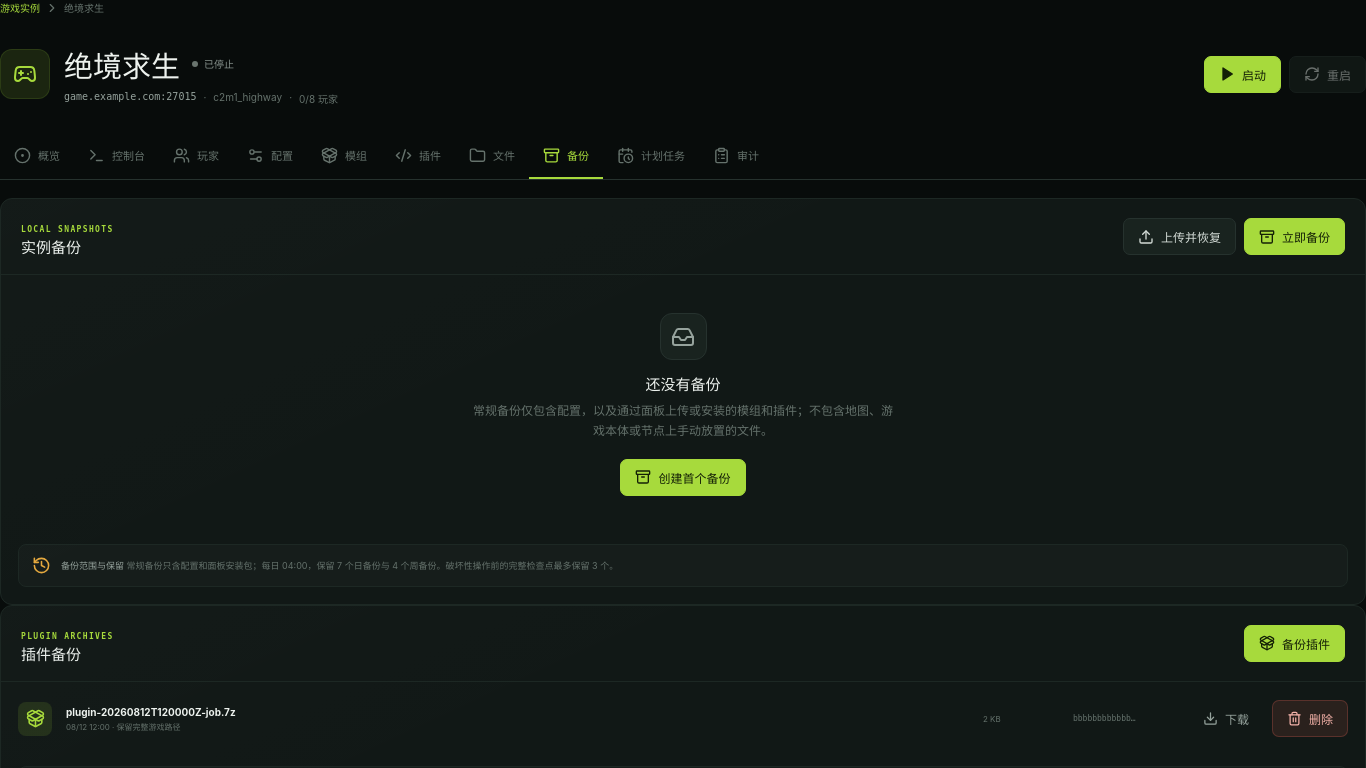
Test case: 游戏实例配置中的端口 › 创建插件备份时可选择精简路径布局
Check: the heading "插件备份" is shown, box [21,645,81,664]
Check: the text "plugin-20260812T120000Z-job.7z" shows "保留完整游戏路径", box [117,722,181,732]
Step 1. Click the button "备份插件" → (1294, 643), box [1244,625,1345,662]
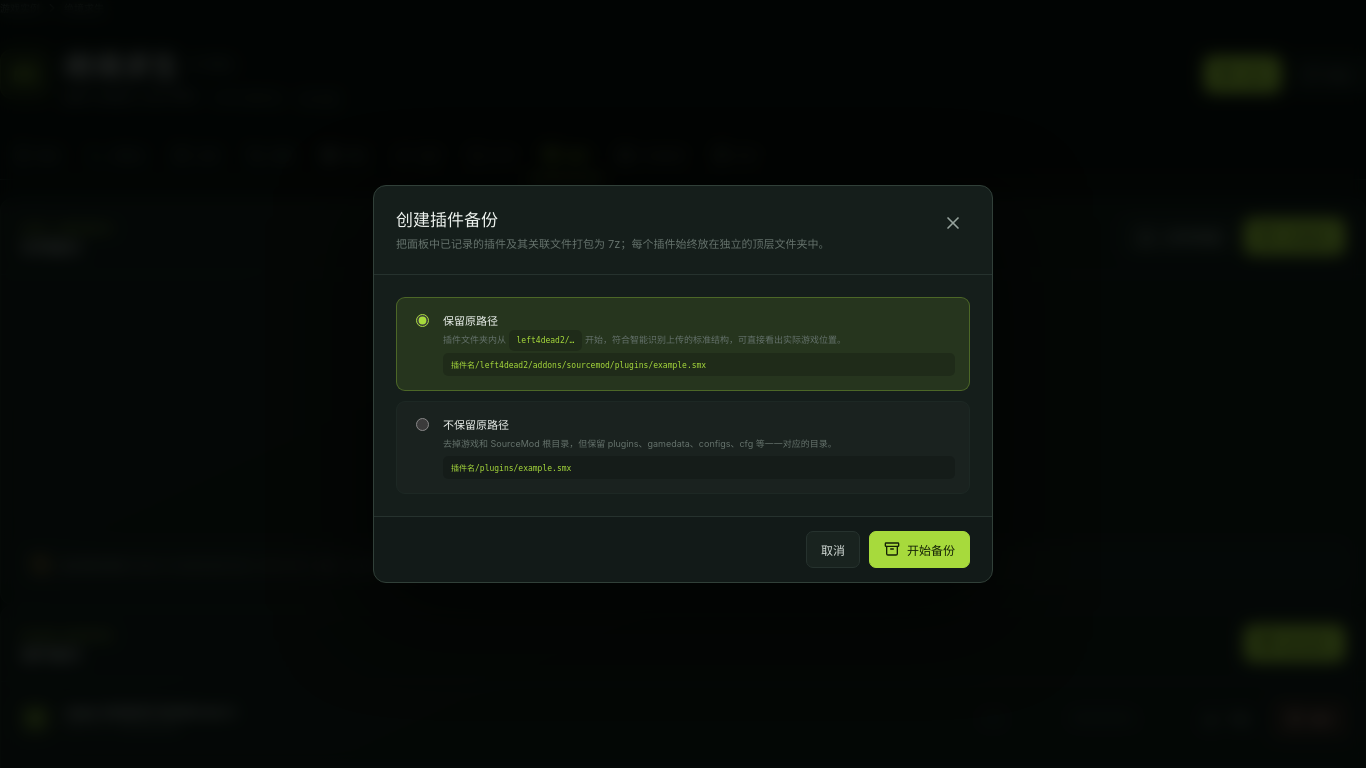
Step 2. Click the radio button labelled "不保留原路径" → (422, 424), box [416,418,429,430]
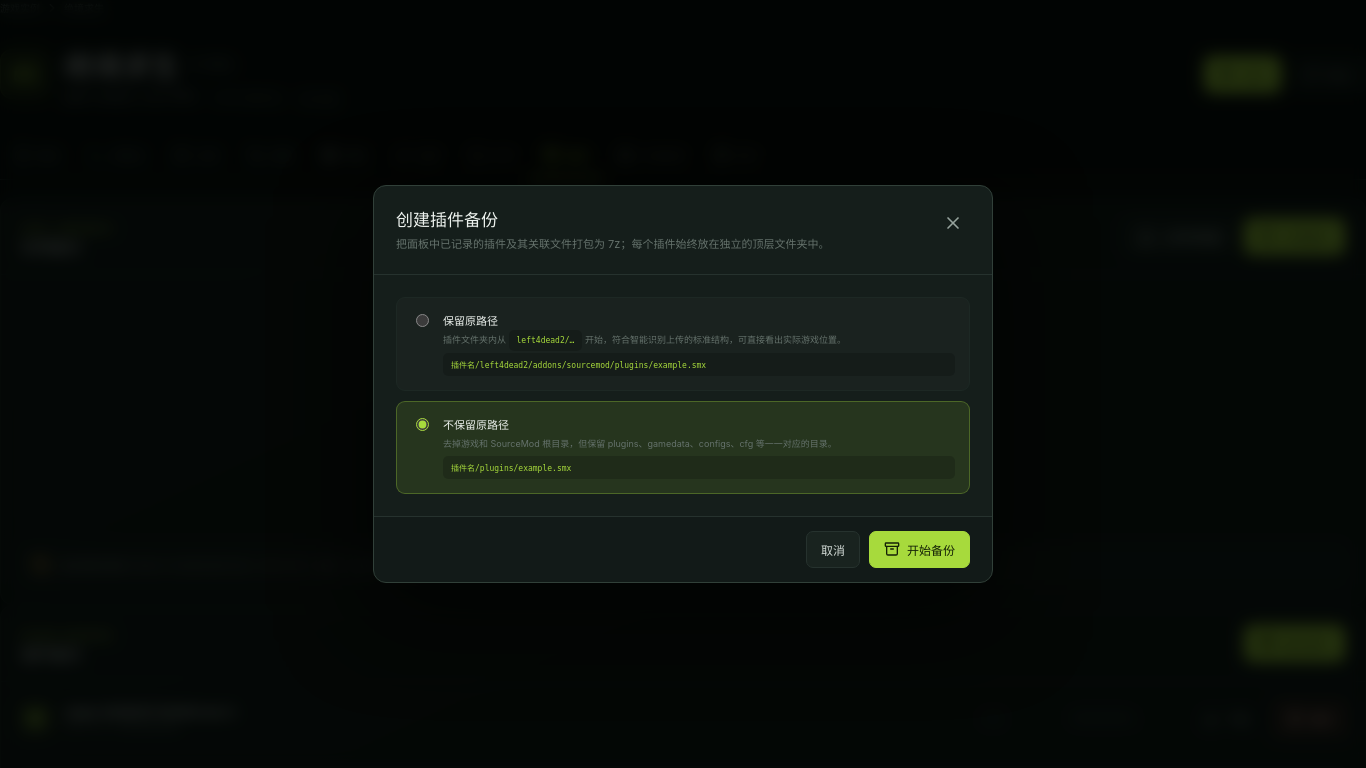
Step 3. Click the button "开始备份" → (920, 549), box [869,531,970,568]
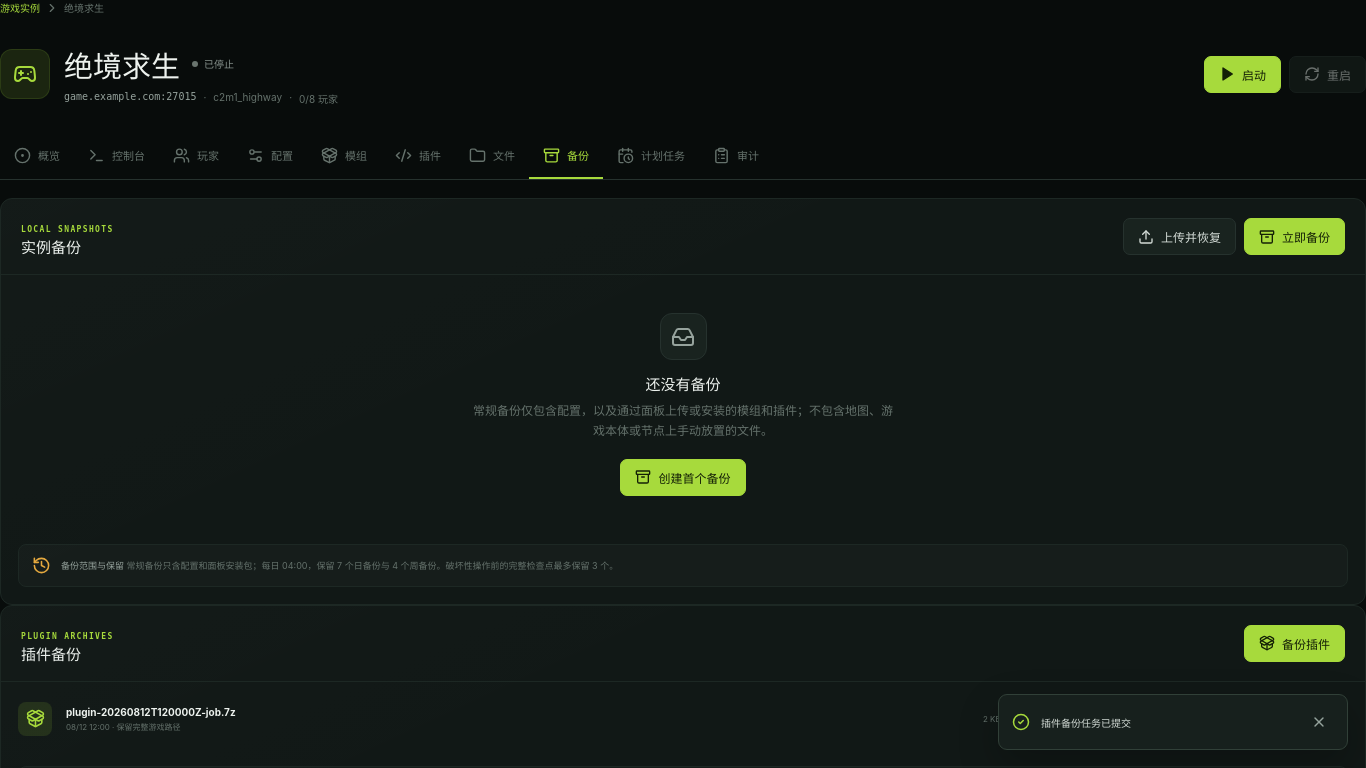
Check: the text "插件备份任务已提交" is shown, box [1041,716,1131,728]
